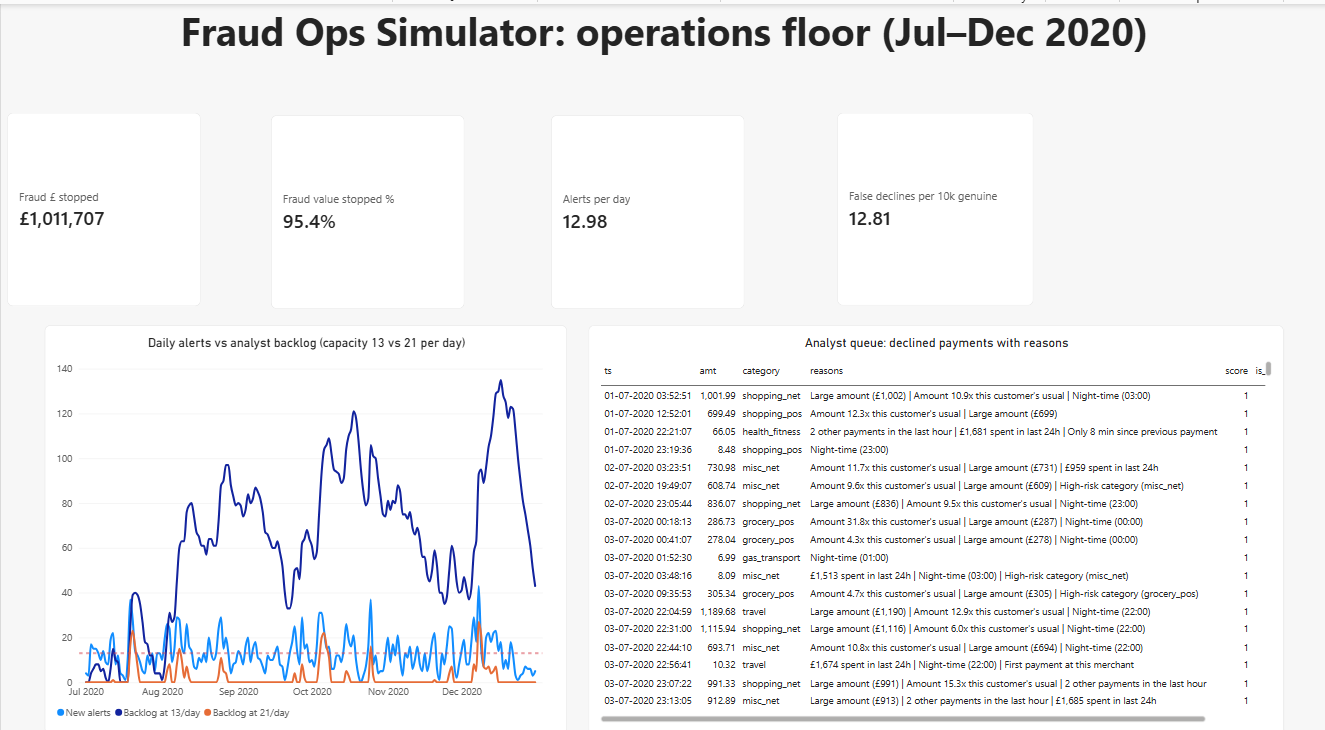

The page's visual inventory and layout, read from the dashboard file:
{"tool":"powerbi","page":{"name":"Page 1","canvas":[1920,1080],"ordinal":0},"visuals":[{"type":"cardVisual","fields":{"Data":["pbi_daily_ops.Fraud £ stopped (display)"]},"box":[8.5,158.1,280,280],"z":0},{"type":"cardVisual","fields":{"Data":["pbi_daily_ops.Fraud value stopped %"]},"box":[390.9,160.2,280,280],"z":1000},{"type":"cardVisual","fields":{"Data":["pbi_daily_ops.Alerts per day"]},"box":[796.8,160.2,280,280],"z":2000},{"type":"cardVisual","fields":{"Data":["pbi_daily_ops.False declines per 10k genuine"]},"box":[1211.2,158.1,284.1,279.8],"z":3000},{"type":"lineChart","title":"Daily alerts vs analyst backlog (capacity 13 vs 21 per day)","fields":{"Category":["pbi_daily_ops.day"],"Y":["Sum(pbi_daily_ops.alerts)","Sum(pbi_daily_ops.backlog_cap13)","Sum(pbi_daily_ops.backlog_cap21)"]},"box":[64.1,465.7,756.2,591.7],"z":4000},{"type":"tableEx","title":"Analyst queue: declined payments with reasons","fields":{"Values":["alerts_with_reasons.ts","alerts_with_reasons.amt","alerts_with_reasons.category","alerts_with_reasons.reasons","alerts_with_reasons.score","alerts_with_reasons.is_fraud","alerts_with_reasons.action"]},"box":[850.2,465.7,1006.1,591.7],"z":5000},{"type":"textbox","box":[0,0,1920.4,132.4],"z":6000}]}

Visuals, with their boxes in screenshot pixels (x1, y1, x2, y2), scaled from the page's 1920x1080 canvas onto the 1325x730 screenshot:
cardVisual - pbi_daily_ops.Fraud £ stopped (display): (left=6, top=107, right=199, bottom=296)
cardVisual - pbi_daily_ops.Fraud value stopped %: (left=270, top=108, right=463, bottom=298)
cardVisual - pbi_daily_ops.Alerts per day: (left=550, top=108, right=743, bottom=298)
cardVisual - pbi_daily_ops.False declines per 10k genuine: (left=836, top=107, right=1032, bottom=296)
"Daily alerts vs analyst backlog (capacity 13 vs 21 per day)" lineChart: (left=44, top=315, right=566, bottom=715)
"Analyst queue: declined payments with reasons" tableEx: (left=587, top=315, right=1281, bottom=715)
textbox: (left=0, top=0, right=1324, bottom=89)
